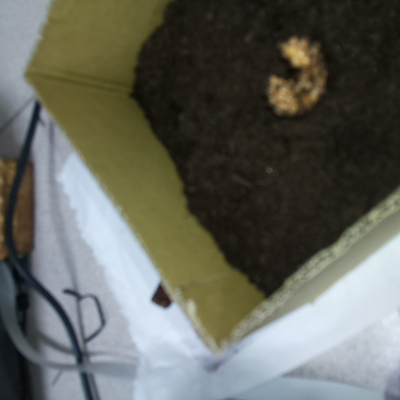eggs: (258, 32, 333, 120)
